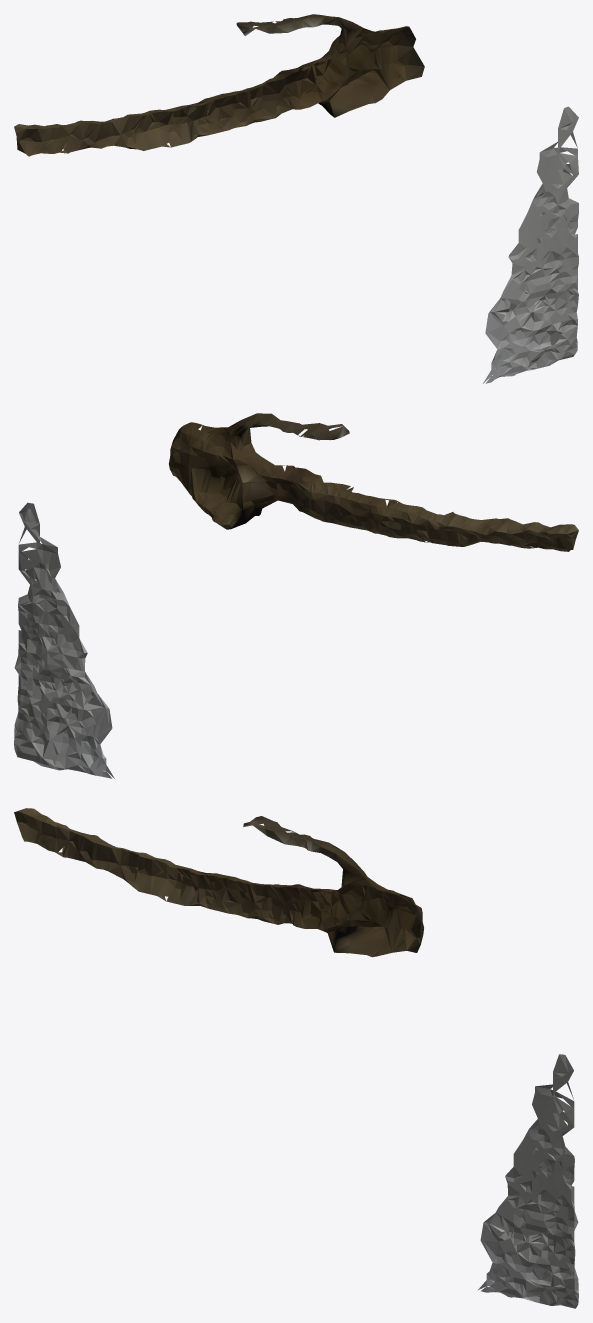
File: Downsampled_0.dae
The picture shows the model from 3 angles, top to bottom: view 1: azimuth 30°, elevation 25°; view 2: azimuth 150°, elevation 25°; view 3: azimuth 330°, elevation 25°; orthographic projection.
Parts seen in each view (by area): view 1: node; view 2: node; view 3: node.
Part boxes in pixels (box(x1,y1,x2,y2)): node: box(14, 14, 578, 383); node: box(14, 413, 578, 778); node: box(14, 808, 578, 1308).
Size of the model in its own units: 0.4575 by 0.32 by 0.053.
